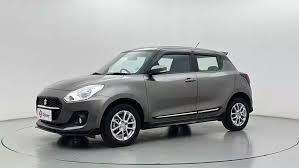Swift: (24, 43, 257, 146)
